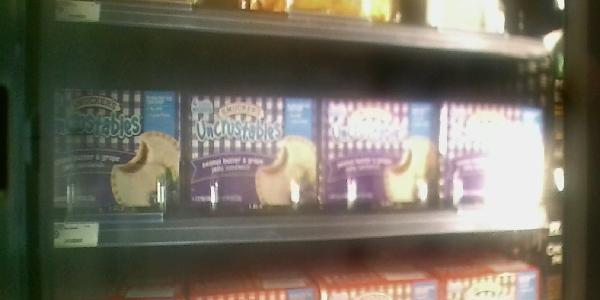icecream: (47, 84, 185, 214), (184, 92, 316, 217), (319, 96, 437, 213), (442, 95, 549, 218)
